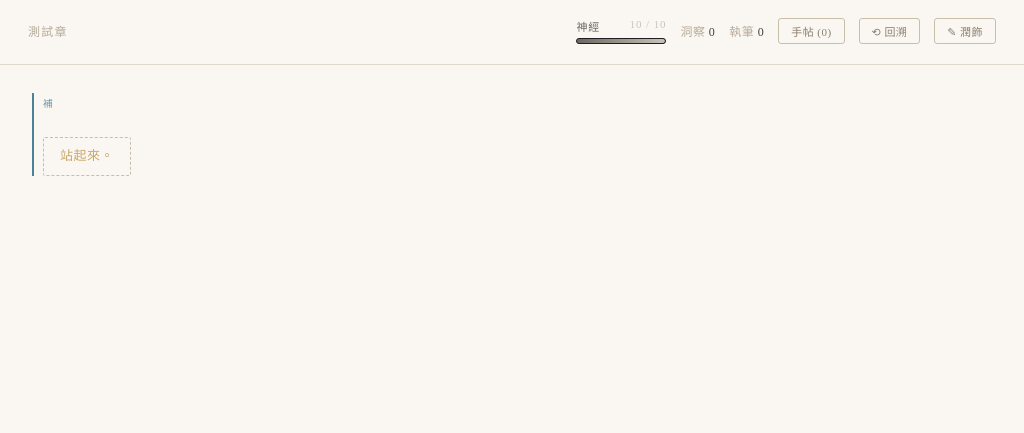
Scenario: HagurumaEngine — action/forced 效果/flag 接線 (Batch F6) › clicking the action button applies effects (ImpactToast) and sets flag (choicesMade)
Click the button with class "action-btn" at (87, 156), box top-left (43, 137), bottom-right (131, 176)
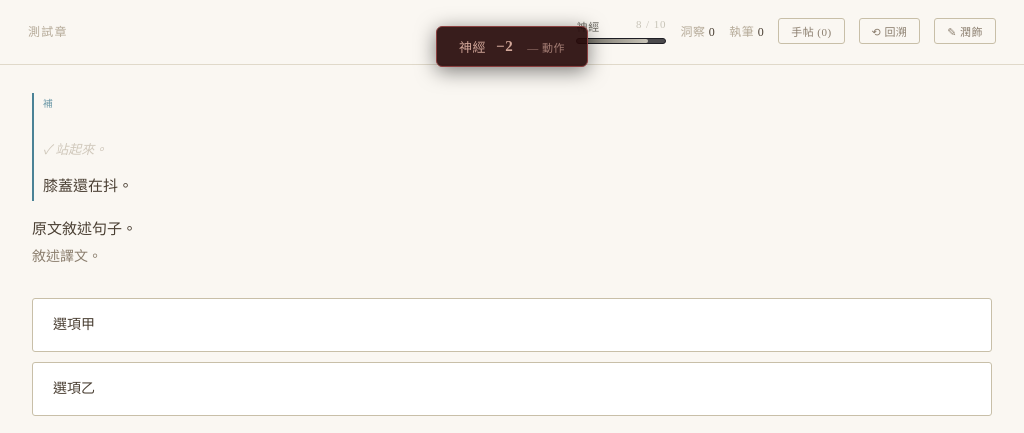
Now the element with class "impact-toast" shows "神經", box top-left (459, 40), bottom-right (486, 55)
